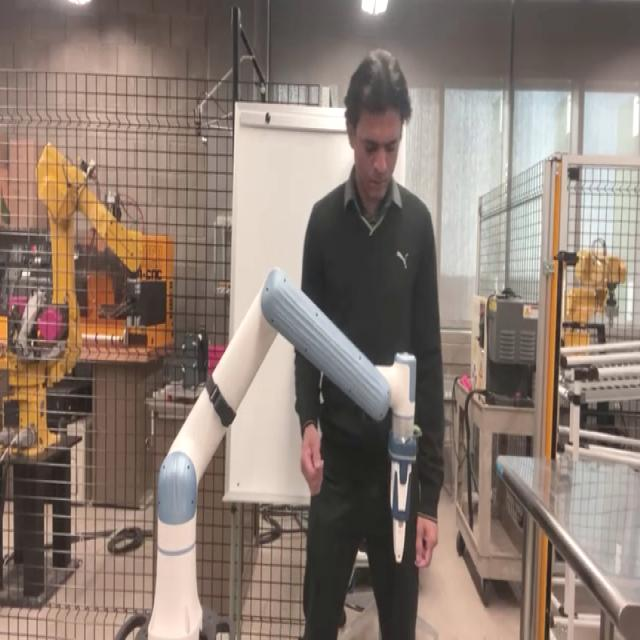robot: (114, 265, 422, 639)
